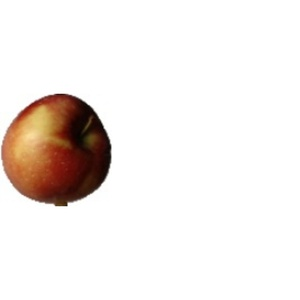maçã braeburn: (2, 92, 115, 207)
